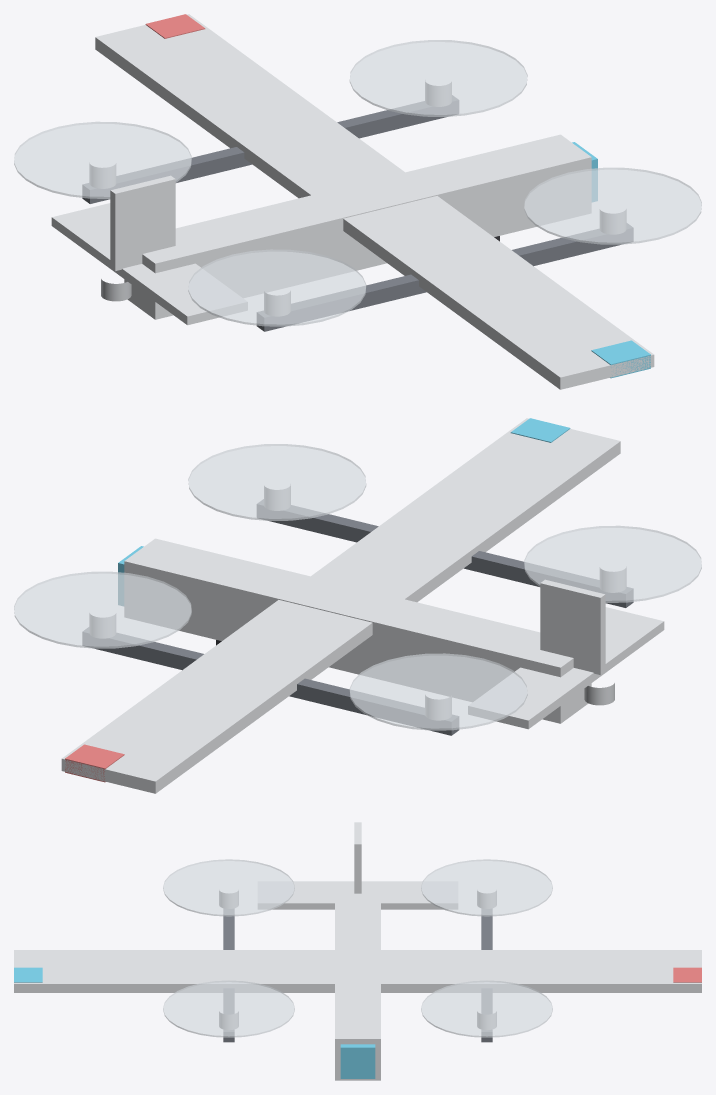
Rendered from vtol.glb.
3 renders of one model, top to bottom at view 1: azimuth 30°, elevation 25°; view 2: azimuth 150°, elevation 25°; view 3: azimuth 270°, elevation 25°, orthographic. The views are drawn at different scales.
Parts seen in each view (by area): view 1: vtol; view 2: vtol; view 3: vtol.
Part boxes in pixels (x1,y1,x2,y2): vtol: (14,14,701,389); vtol: (14,418,701,793); vtol: (14,822,701,1080).
Size of the model in its own units: 1.49 by 0.42 by 2.4.
